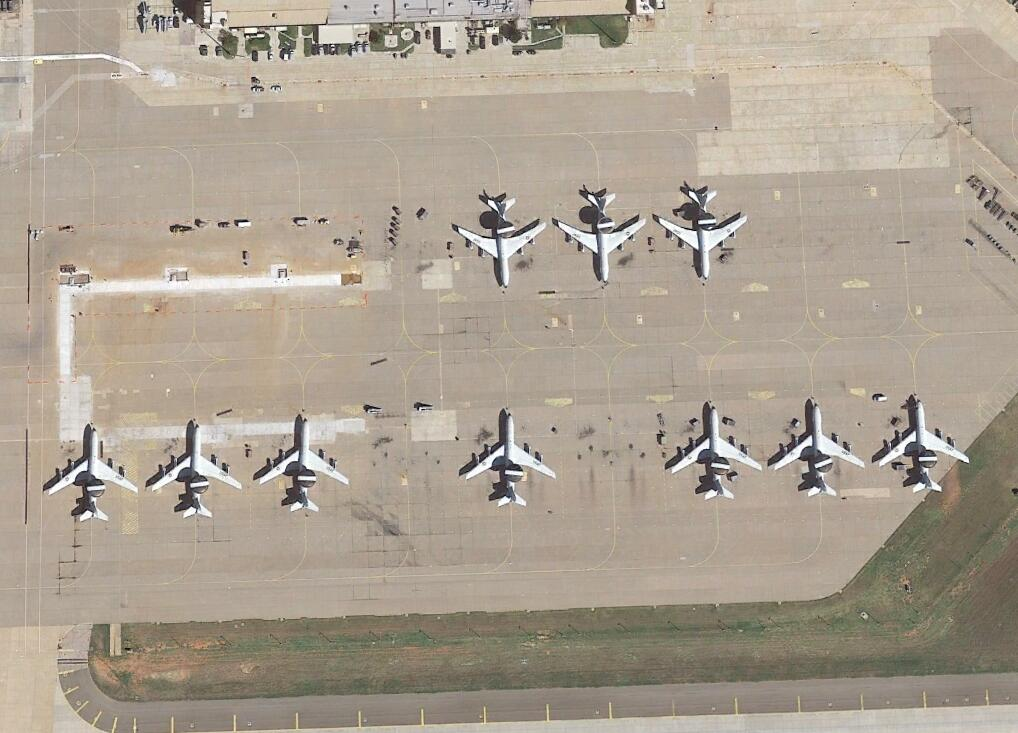A7: (147, 421, 244, 520), (770, 401, 866, 500), (873, 399, 971, 495), (255, 416, 353, 512), (45, 424, 140, 523), (668, 407, 765, 502), (463, 413, 560, 507), (654, 185, 750, 278), (555, 187, 647, 283), (455, 195, 548, 286)
